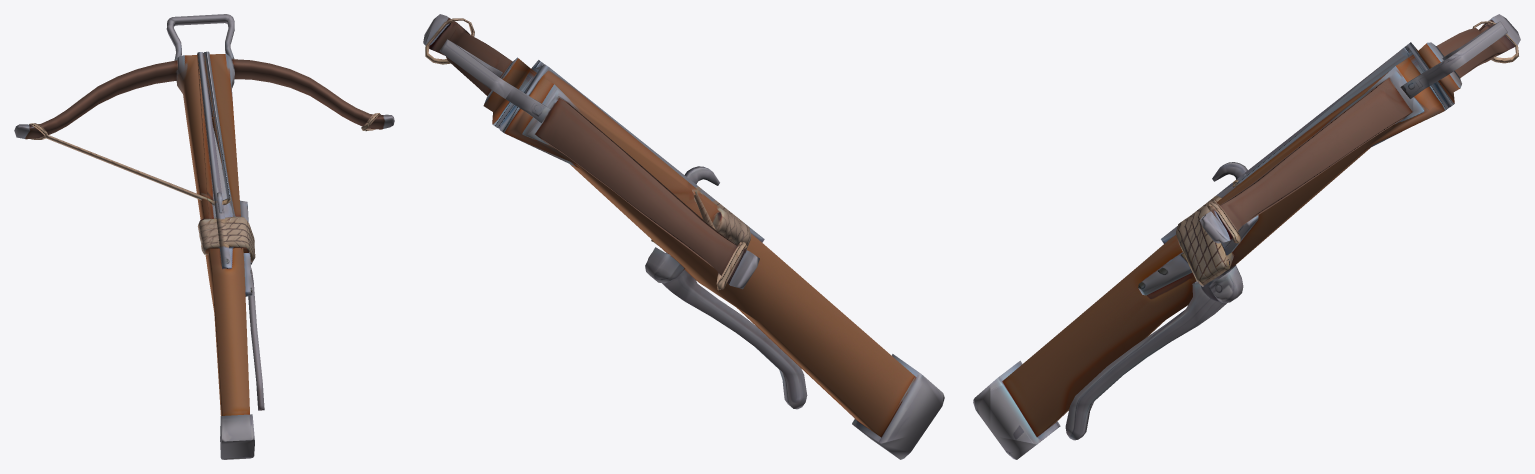
Rendered from crossbowman_crossbow_tex.fbx.
3 renders of one model, left to right at view 1: azimuth 30°, elevation 25°; view 2: azimuth 150°, elevation 25°; view 3: azimuth 270°, elevation 25°, orthographic. The views are drawn at different scales.
Parts seen in each view (by area): view 1: b102daba_8cf6_4c52_9b24_995deb4dc6fc; view 2: b102daba_8cf6_4c52_9b24_995deb4dc6fc; view 3: b102daba_8cf6_4c52_9b24_995deb4dc6fc.
Part boxes in pixels (box(x1,y1,x2,y2)): b102daba_8cf6_4c52_9b24_995deb4dc6fc: box(14, 14, 394, 459); b102daba_8cf6_4c52_9b24_995deb4dc6fc: box(423, 14, 944, 459); b102daba_8cf6_4c52_9b24_995deb4dc6fc: box(973, 14, 1520, 459).
Bounding box in the file's own units: 0.9077 × 0.9507 × 0.9438.
1 material, 1 textured.
